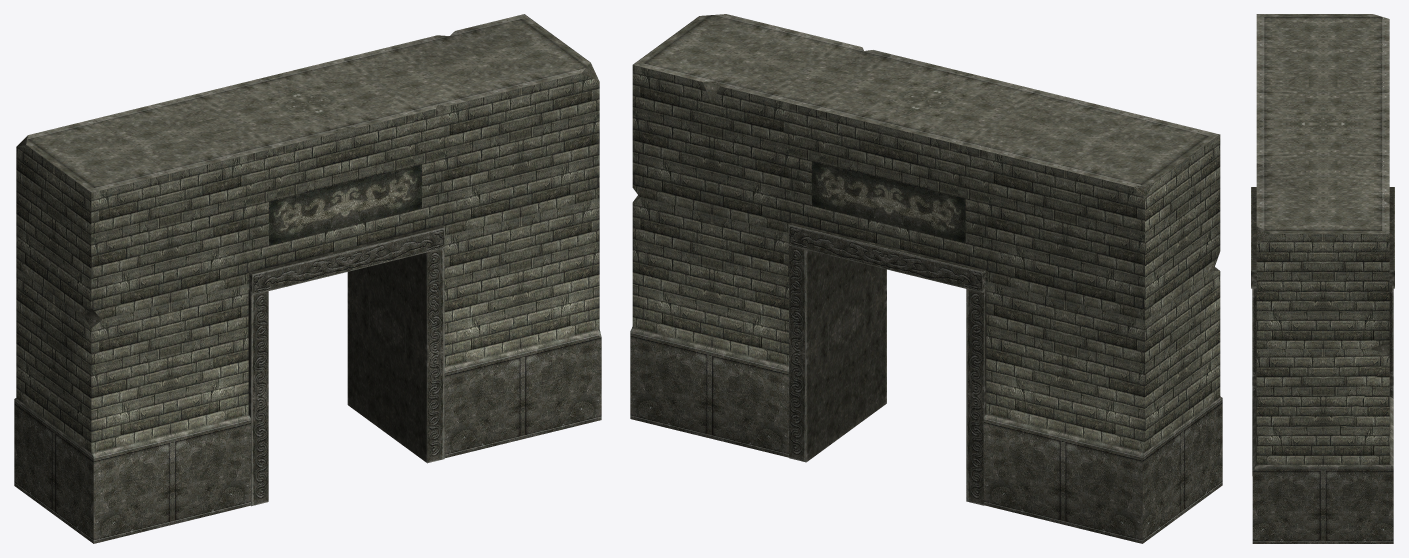
The model's file is general_obj_cliffgate01.fbx.
3 views of the same model, side by side, from view 1: azimuth 30°, elevation 25°; view 2: azimuth 150°, elevation 25°; view 3: azimuth 270°, elevation 25° (orthographic). The views are drawn at different scales.
Visible parts, largest first — view 1: Sphere01; view 2: Sphere01; view 3: Sphere01.
Boxes of the visible parts, x1,y1,x2,y2 form: Sphere01: (14, 14, 601, 543); Sphere01: (630, 14, 1222, 543); Sphere01: (1251, 14, 1394, 543).
Bounding box in the file's own units: 15.25 × 10.04 × 4.22.
